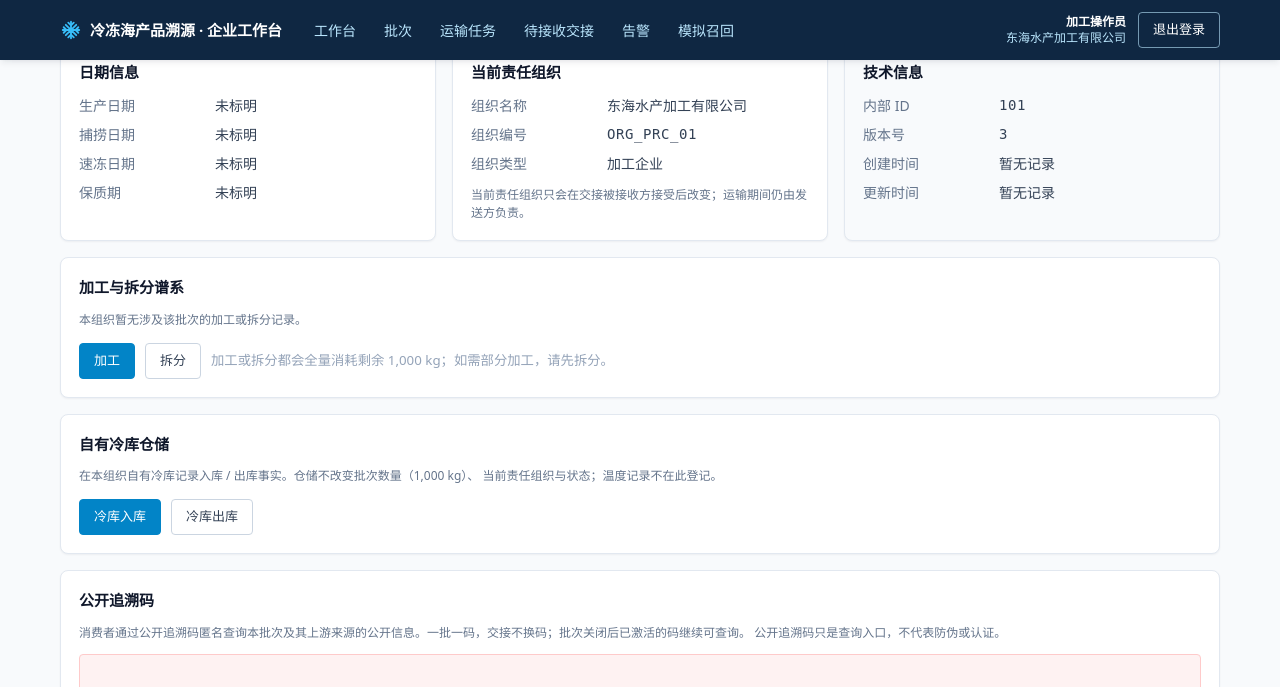
BatchOperationWizardView › PROCESS: input fixed to the full remaining quantity, balance enforced, create + submit then lands on the new batch
(page scrolled)
Click the link with test id "start-process": [107, 360] box [79,342,135,378]
(page scrolled)
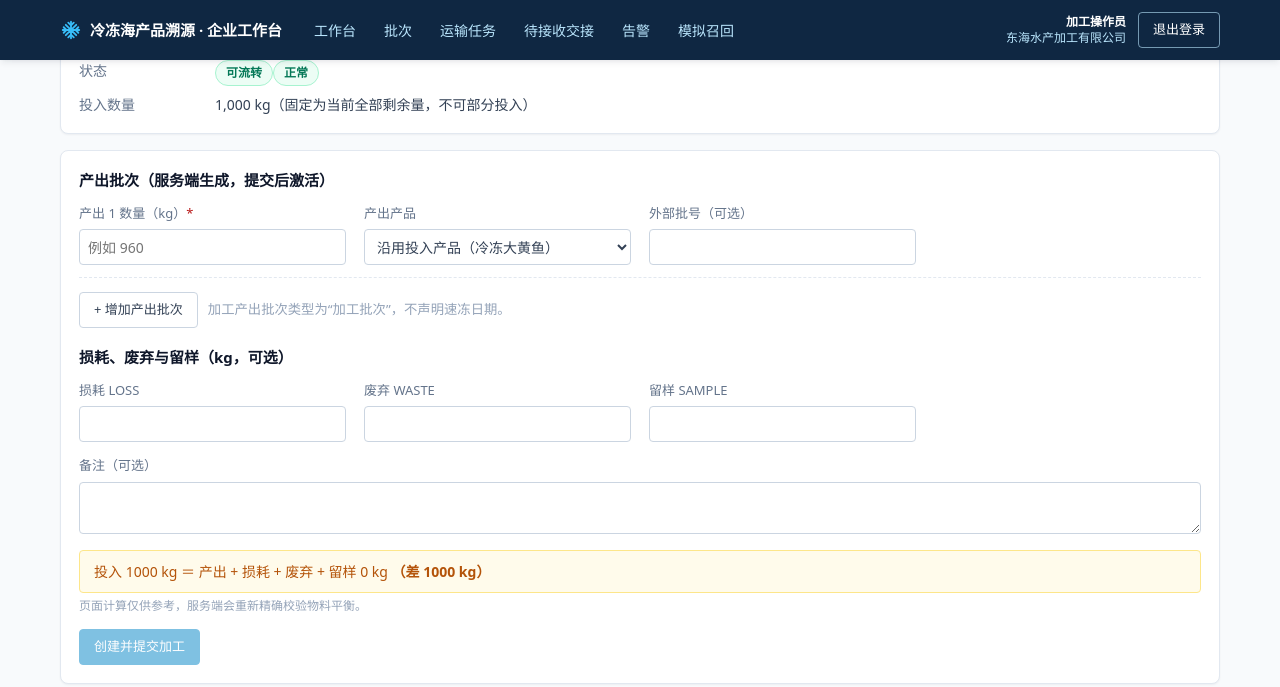
Expected: the text with test id "wizard-input-quantity" shows "1,000 kg", [215,95,536,114]
In the field with test id "output-quantity-0": [212, 247] box [79,229,346,265], type "960"
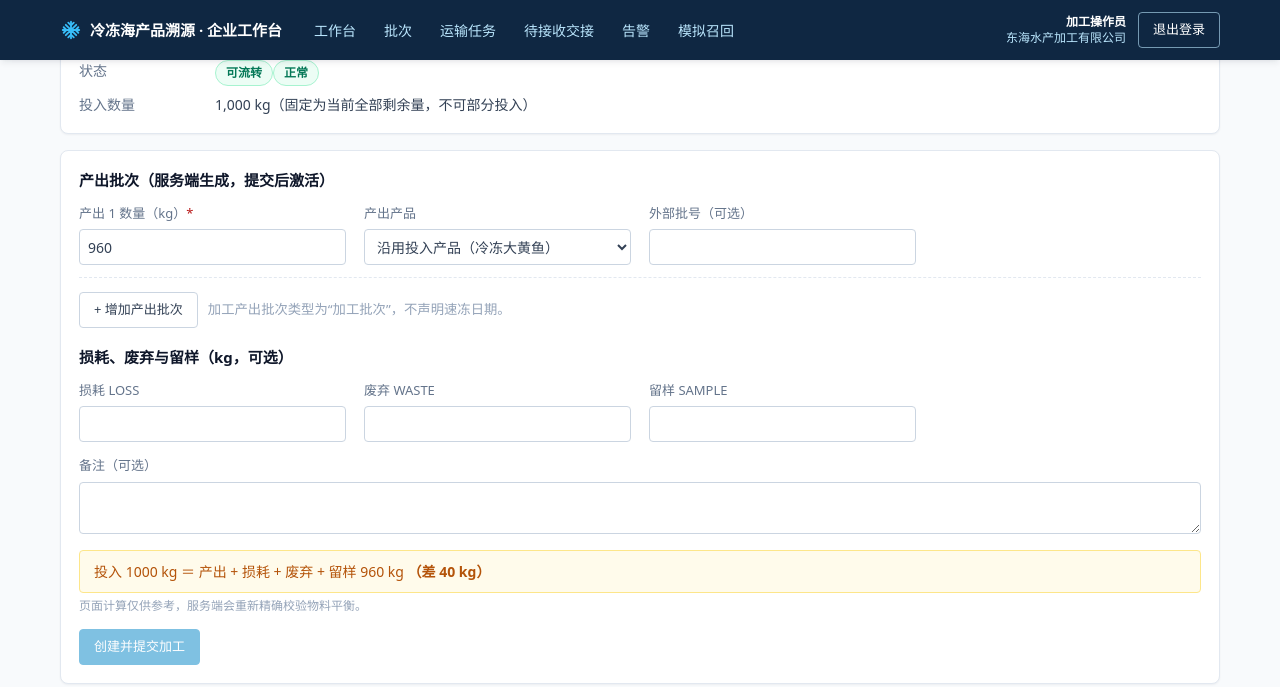
In the field with test id "loss-quantity": [212, 424] box [79,406,346,442], type "30"
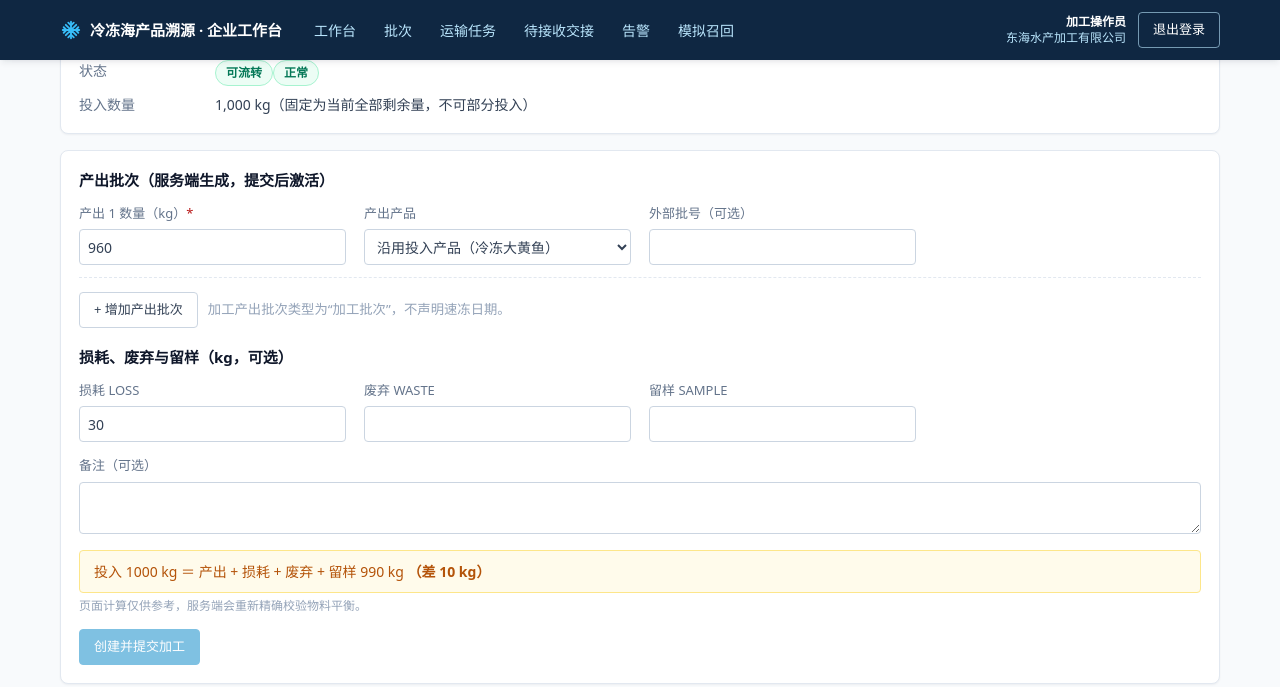
Expected: the button with test id "wizard-submit" is disabled, [79,628,200,664]
Expected: the message with test id "balance-indicator" shows "差 10", [408,562,490,580]
In the field with test id "sample-quantity": [782, 424] box [649,406,916,442], type "10"
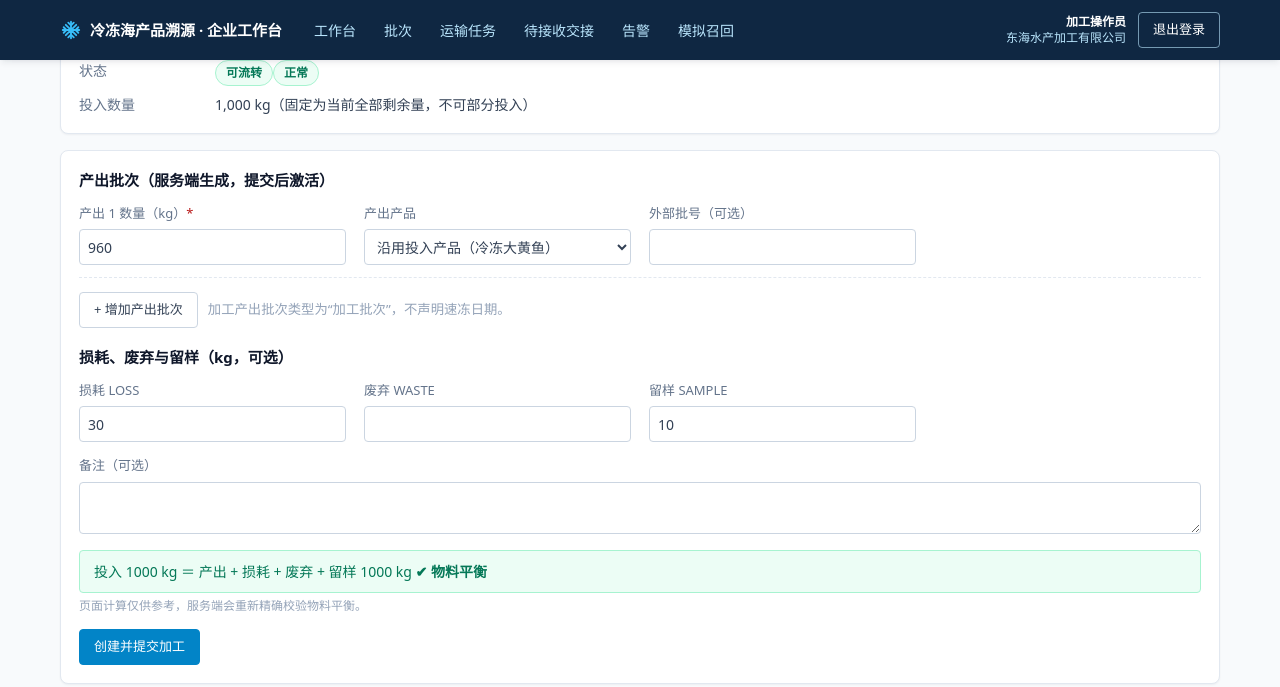
Expected: the message with test id "balance-indicator" has attribute data-balanced="true", [79,550,1201,592]
Submit the form with test id "wizard-form"
(page scrolled)
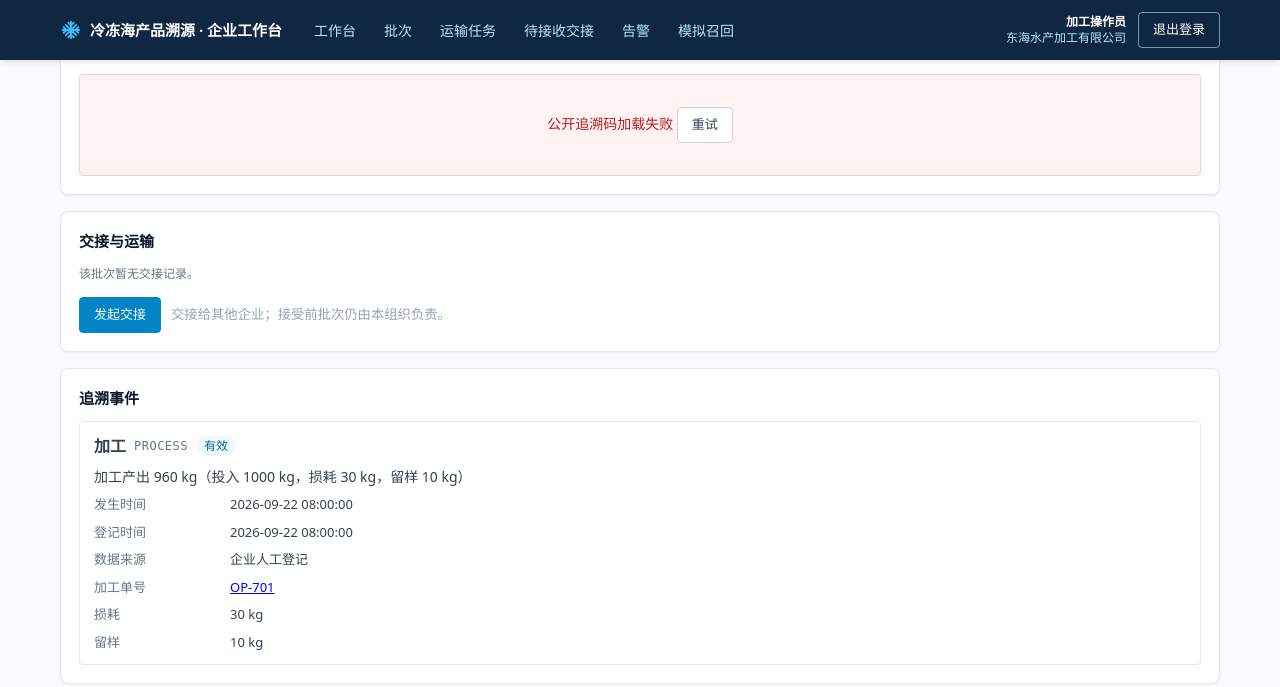
Expected: the text "PROCESS" is shown, [134,437,188,455]
Expected: the element with test id "event-fact-加工单号" reads "OP-701", [230,578,274,596]
